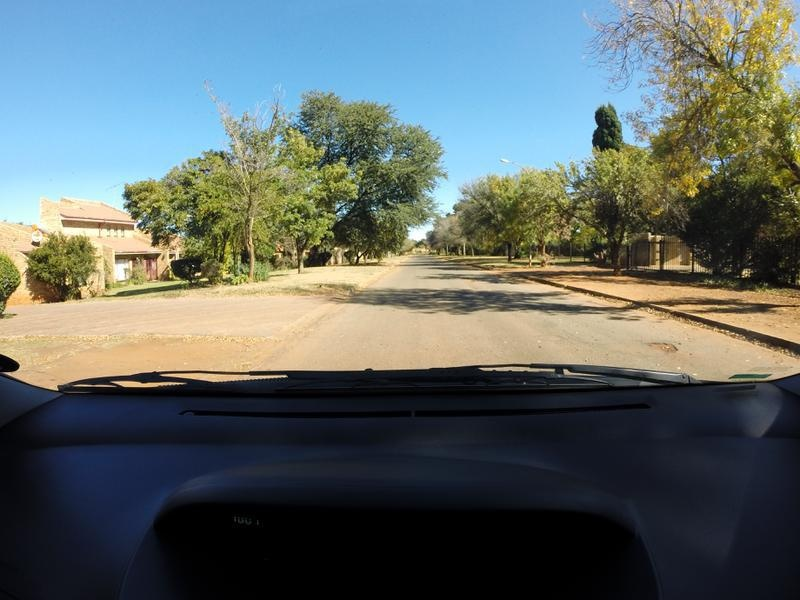pothole: (651, 336, 677, 357)
